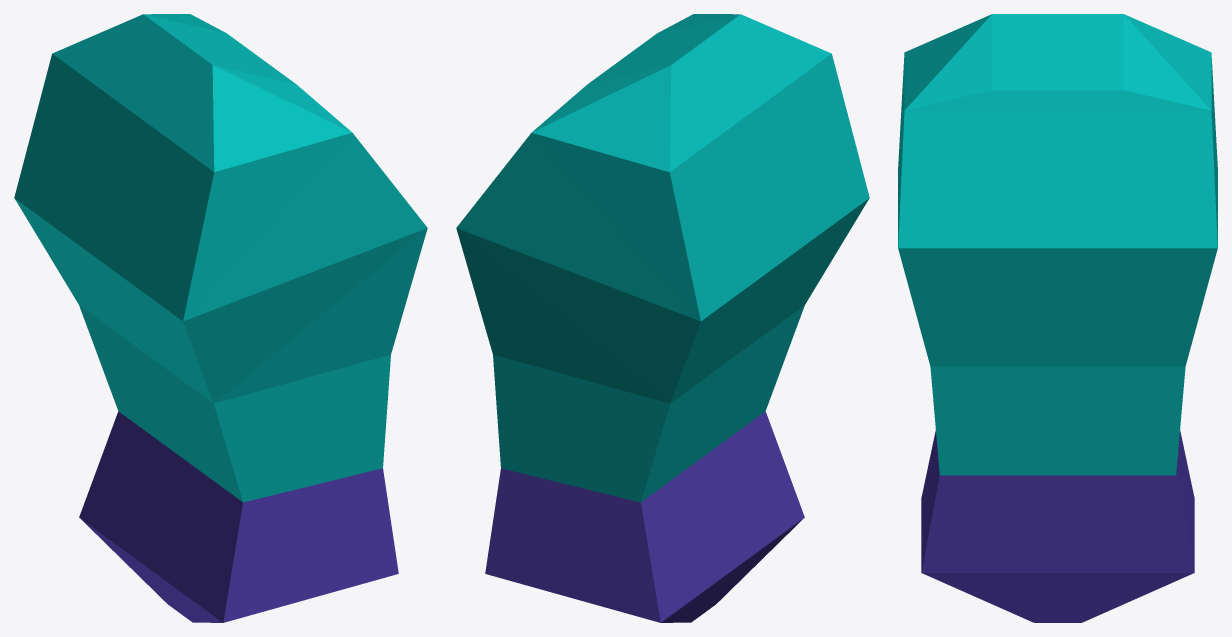
File: torso.dae
3 views of the same model, side by side, from view 1: azimuth 30°, elevation 25°; view 2: azimuth 150°, elevation 25°; view 3: azimuth 270°, elevation 25° (orthographic). The views are drawn at different scales.
Visible parts, largest first — view 1: torso; view 2: torso; view 3: torso.
Part boxes in pixels (box(x1,y1,x2,y2)): torso: box(14, 14, 427, 622); torso: box(456, 14, 869, 622); torso: box(898, 14, 1217, 622).
Bounding box in the file's own units: 0.3058 × 0.3654 × 0.6858.
